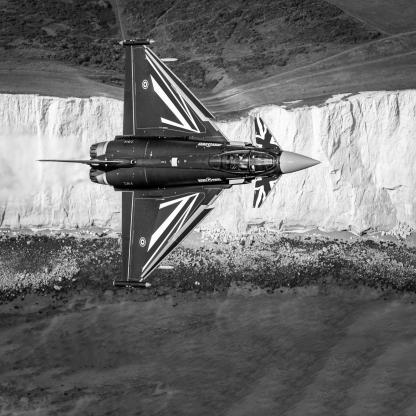EF2000: (36, 39, 323, 290)
